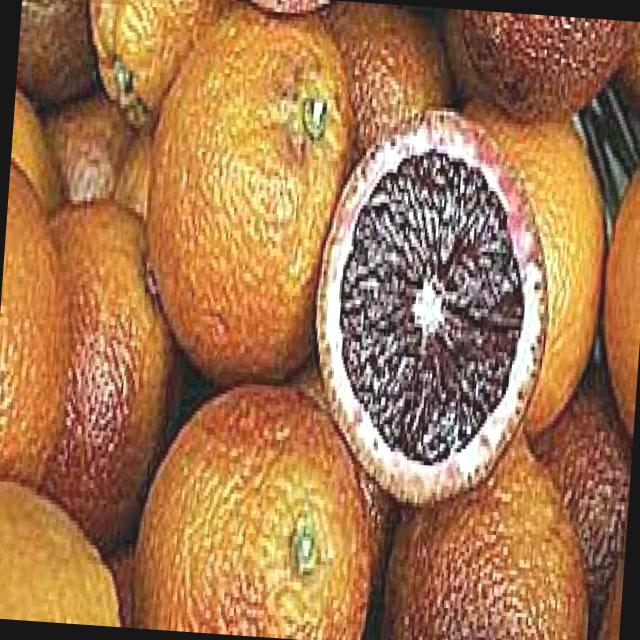Orange: (127, 1, 367, 396), (128, 372, 386, 640), (16, 195, 179, 550), (444, 104, 615, 432), (378, 420, 600, 640), (0, 164, 78, 500), (309, 1, 449, 154), (594, 150, 640, 433)
